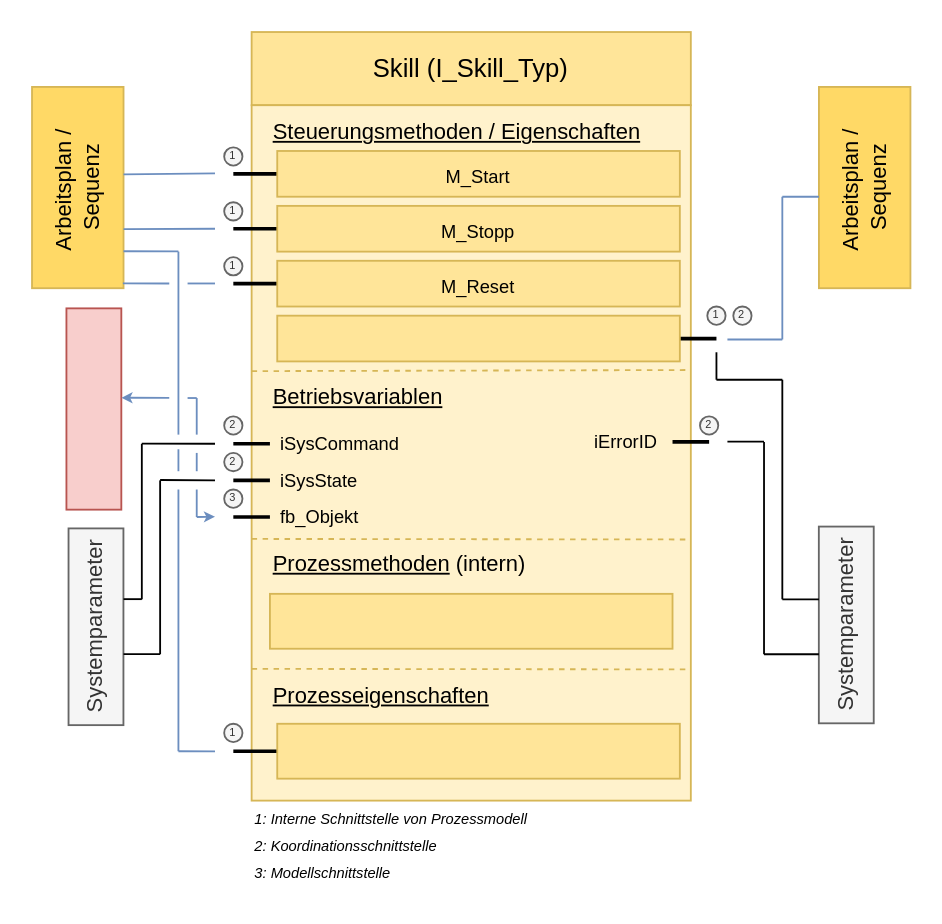
Image size: 942x924. Some labels were removed from this diagram. Each missing label, with the box of its shape:
M_Prozessmethoden: (268, 592, 673, 649)
Objekt: (65, 307, 121, 510)
P_Prozessparameter (SET): (275, 722, 680, 779)
P_State (GET): (275, 314, 680, 361)
